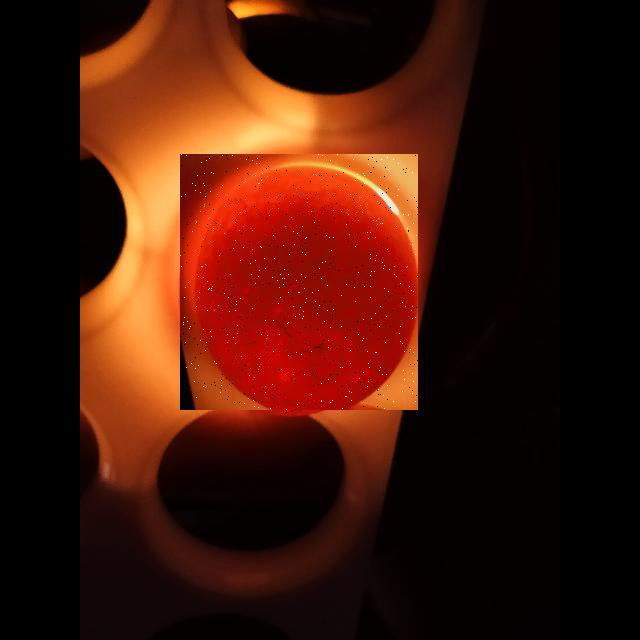Infertile: (180, 154, 418, 410)
